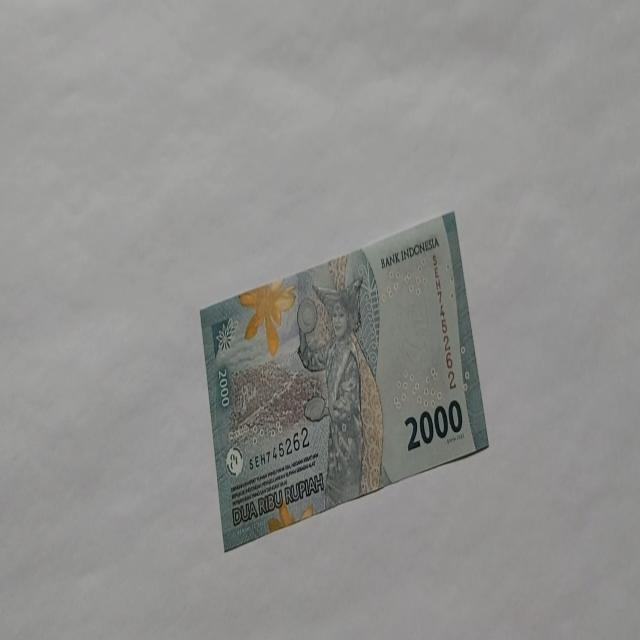dua ribu rupiah: (198, 209, 490, 552), (296, 274, 384, 510)
